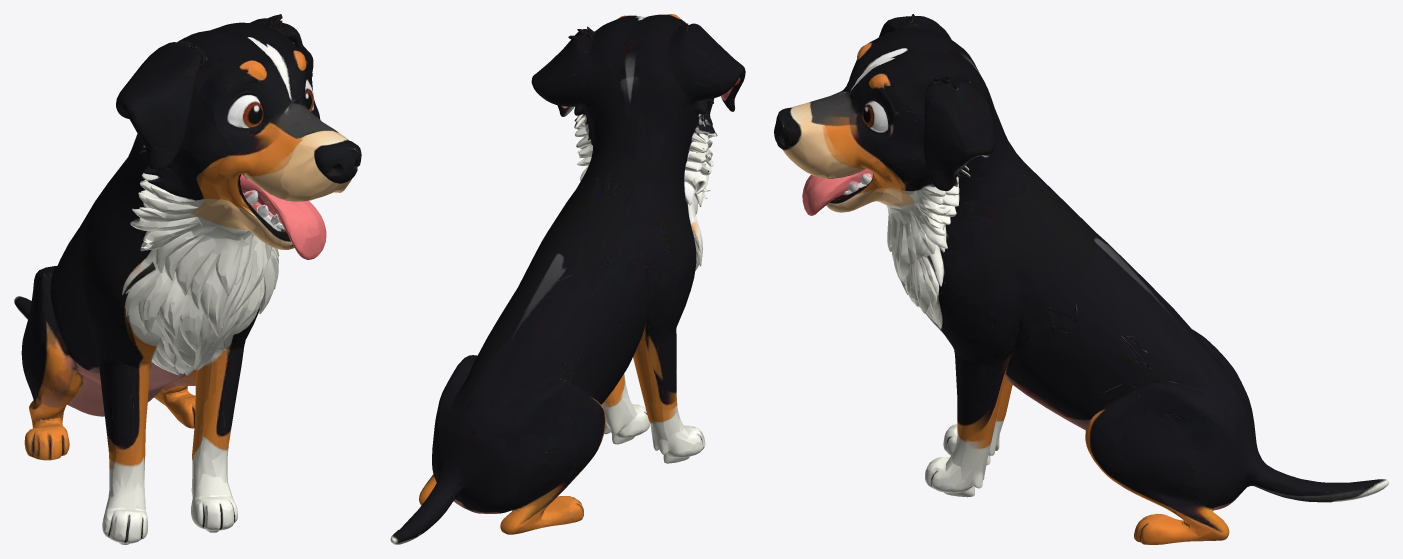
Rendered from zero-meshy.glb.
3 views of the same model, side by side, from view 1: azimuth 30°, elevation 25°; view 2: azimuth 150°, elevation 25°; view 3: azimuth 270°, elevation 25° (orthographic). The views are drawn at different scales.
Visible parts, largest first — view 1: output_unwrapped; view 2: output_unwrapped; view 3: output_unwrapped.
Part boxes in pixels (bbox=[...]): output_unwrapped: bbox=[14, 14, 361, 544]; output_unwrapped: bbox=[390, 14, 745, 544]; output_unwrapped: bbox=[774, 14, 1388, 544].
Bounding box in the file's own units: 0.7544 × 1.56 × 1.9.
Materials: 1 (1 with a texture image).
